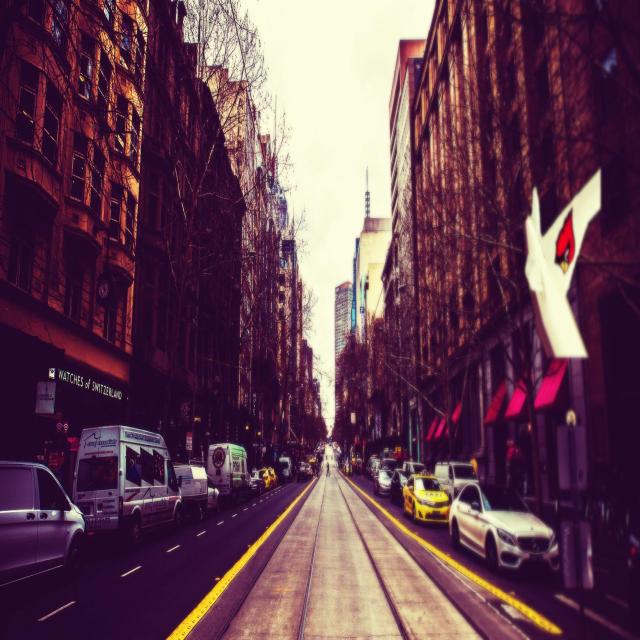airplane: (523, 166, 602, 360)
